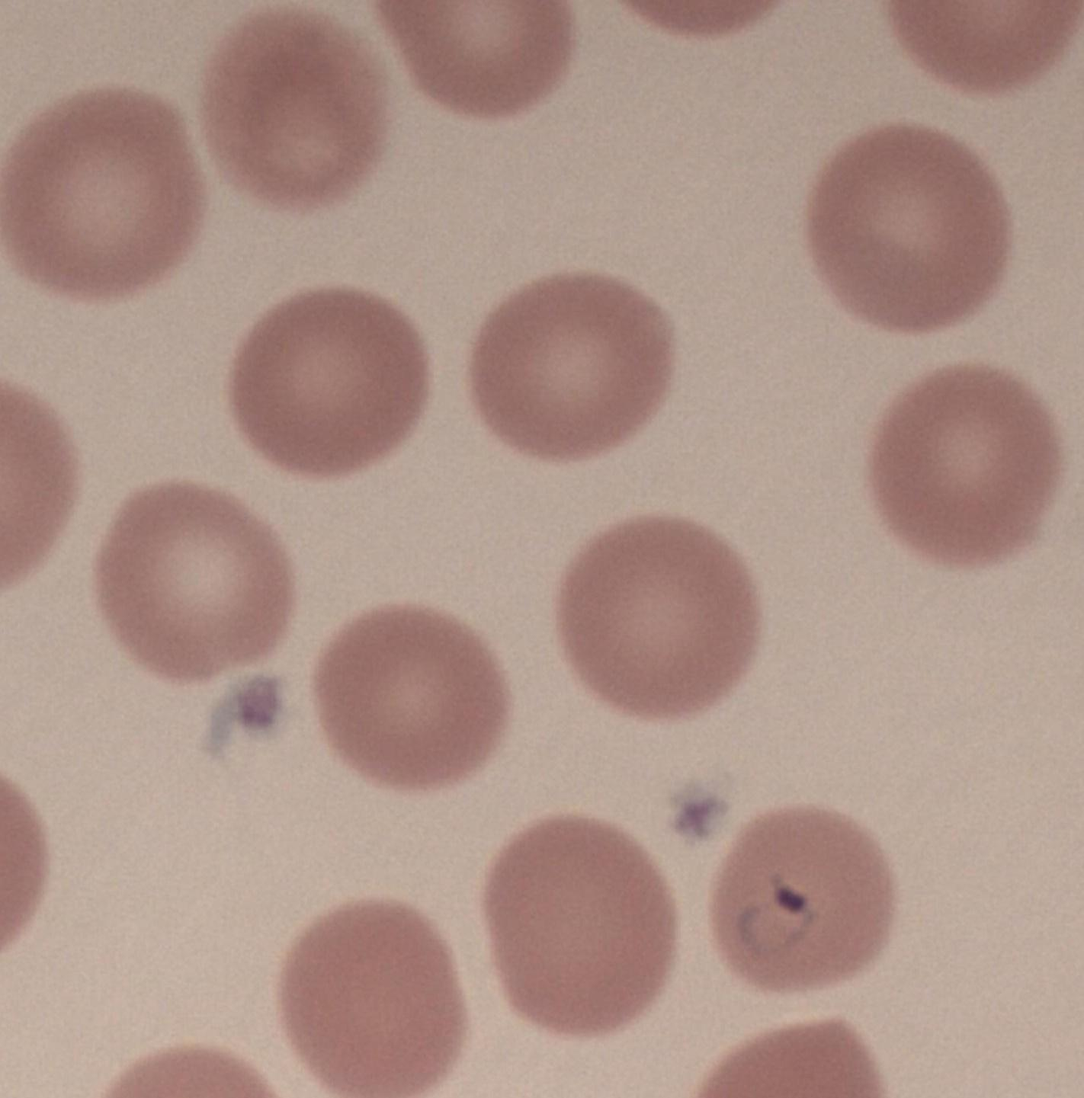Infected: (709, 804, 896, 995)
Uninfected: (0, 85, 204, 295), (813, 125, 1016, 332), (480, 817, 675, 1031), (555, 517, 759, 719), (91, 482, 292, 682), (469, 271, 675, 459), (228, 287, 430, 477), (866, 363, 1057, 563), (203, 8, 395, 203), (280, 903, 470, 1093), (314, 605, 508, 789)
